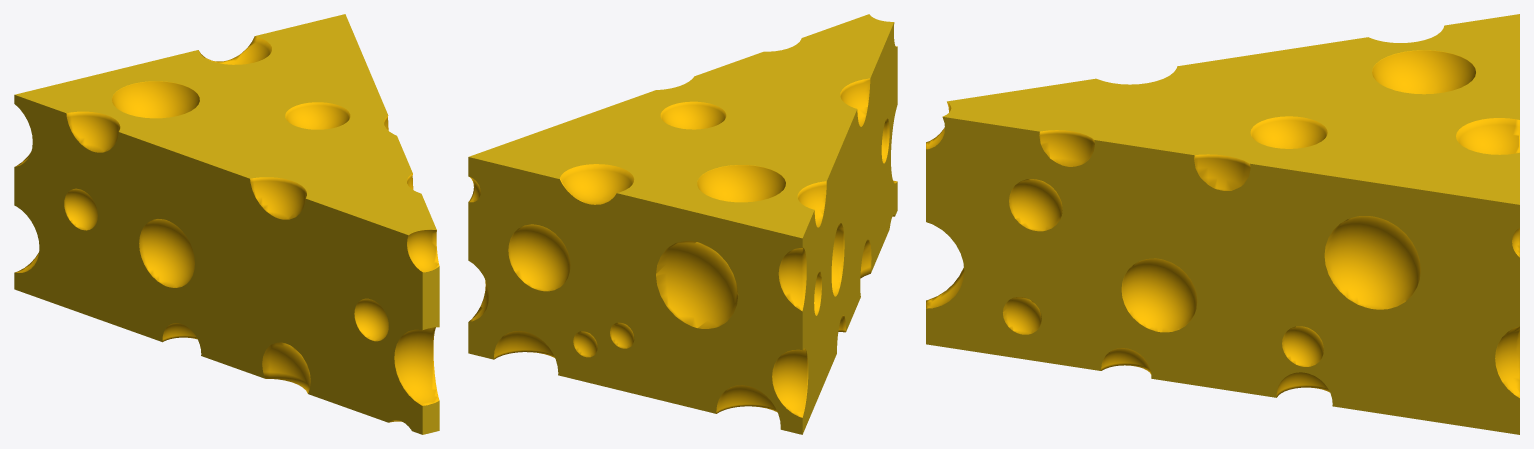
The model's file is food_cheese.glb.
3 views of the same model, side by side, from view 1: azimuth 30°, elevation 25°; view 2: azimuth 150°, elevation 25°; view 3: azimuth 270°, elevation 25° (orthographic). The views are drawn at different scales.
Visible parts, largest first — view 1: food_cheese; view 2: food_cheese; view 3: food_cheese.
Part boxes in pixels (x1=…): food_cheese: x1=14, y1=14, x2=439, y2=434; food_cheese: x1=468, y1=14, x2=897, y2=434; food_cheese: x1=926, y1=14, x2=1519, y2=434.
Bounding box in the file's own units: 78.29 × 44 × 103.
